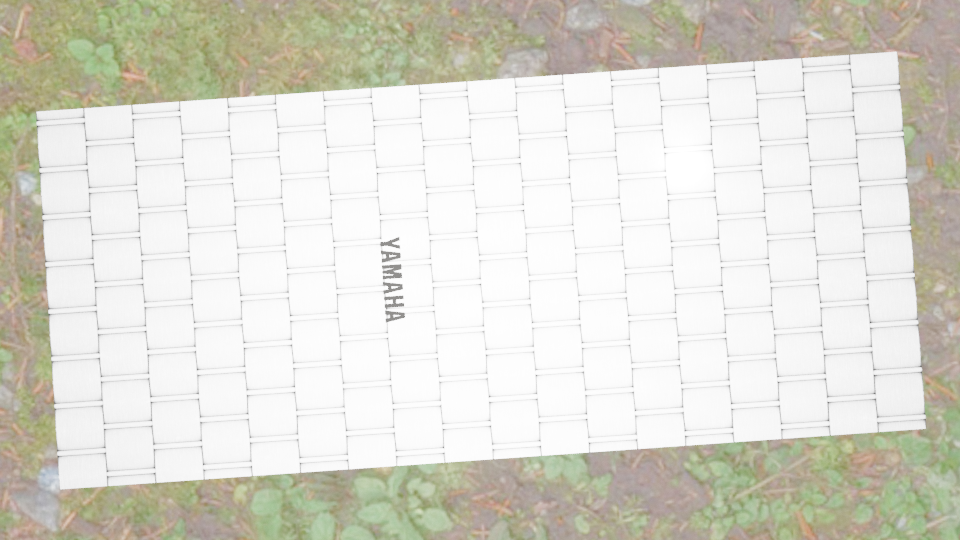yamaha_letters: (379, 236, 405, 323)
